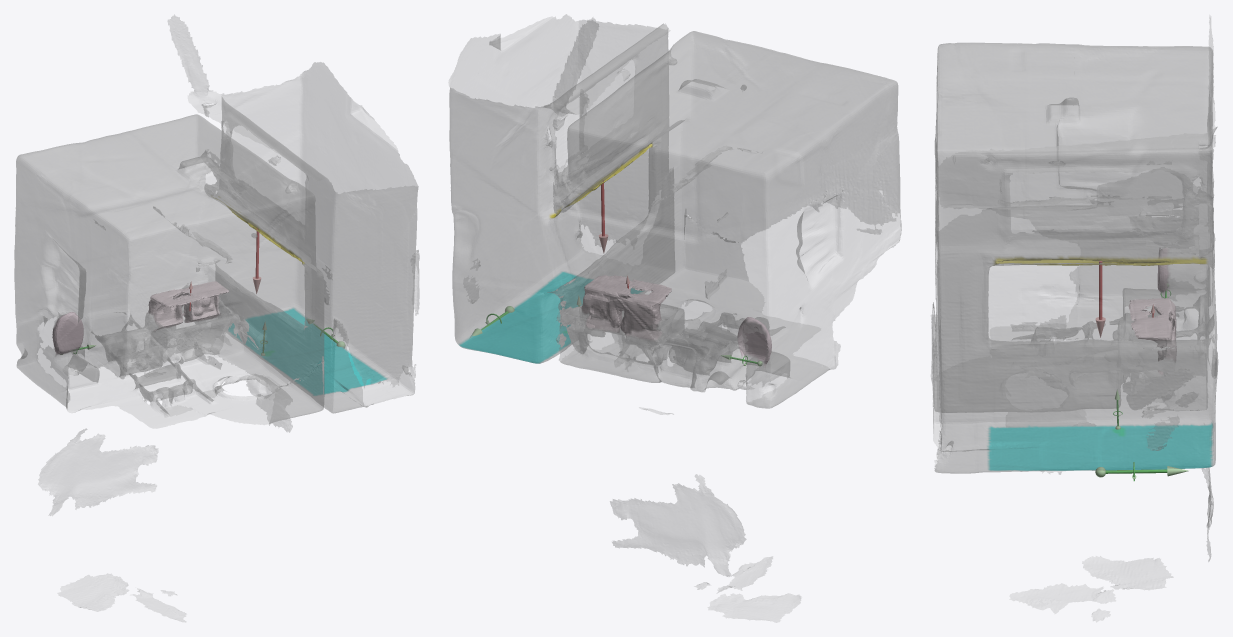
Rendered from scene_00119_01-articulation.compressed.gltf.
The picture shows the model from 3 angles, left to right: view 1: azimuth 30°, elevation 25°; view 2: azimuth 150°, elevation 25°; view 3: azimuth 270°, elevation 25°; orthographic projection. The views are drawn at different scales.
Bounding box in the file's own units: 3.78 × 6.3 × 2.59.
